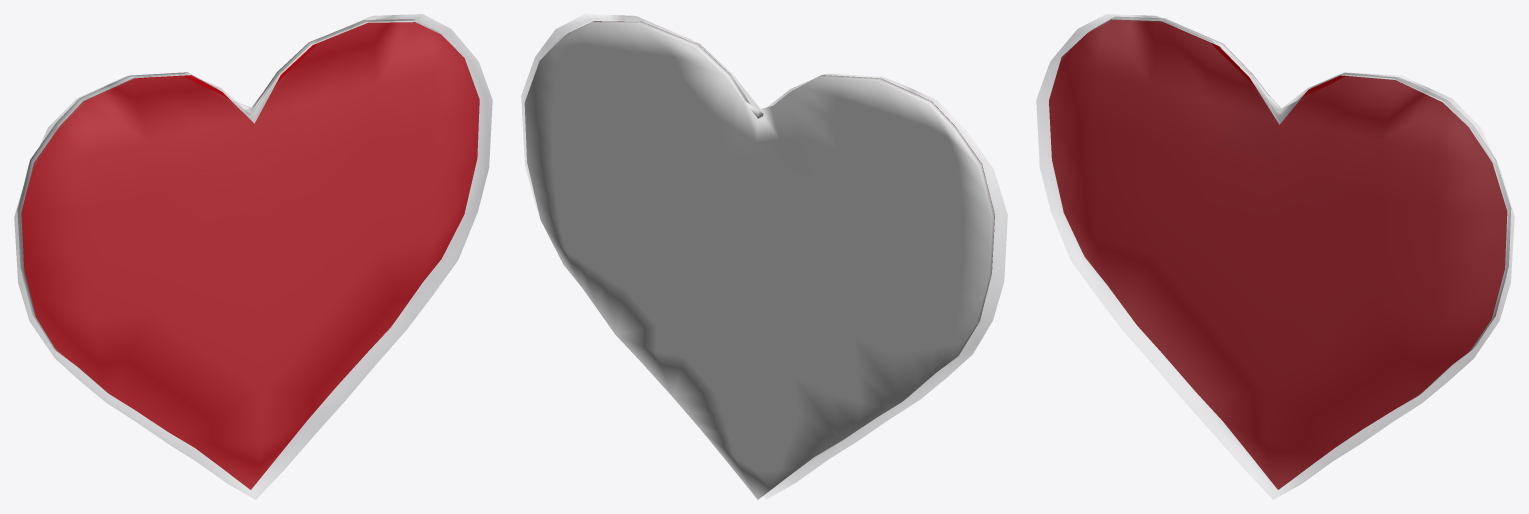
File: heart.glb
The picture shows the model from 3 angles, left to right: view 1: azimuth 30°, elevation 25°; view 2: azimuth 150°, elevation 25°; view 3: azimuth 330°, elevation 25°; orthographic projection.
Visible parts, largest first — view 1: 平面, PHOTO_PLANE, 平面11; view 2: 平面11, 平面; view 3: 平面, PHOTO_PLANE, 平面11.
Part boxes in pixels (x1=…): 平面: x1=14, y1=14, x2=492, y2=499; PHOTO_PLANE: x1=21, y1=22, x2=479, y2=489; 平面11: x1=17, y1=19, x2=439, y2=391; 平面11: x1=524, y1=21, x2=994, y2=499; 平面: x1=521, y1=14, x2=1007, y2=498; 平面: x1=1036, y1=14, x2=1514, y2=499; PHOTO_PLANE: x1=1049, y1=19, x2=1507, y2=489; 平面11: x1=1091, y1=16, x2=1511, y2=394.
Size of the model in its own units: 2.28 by 2.05 by 0.1344.
